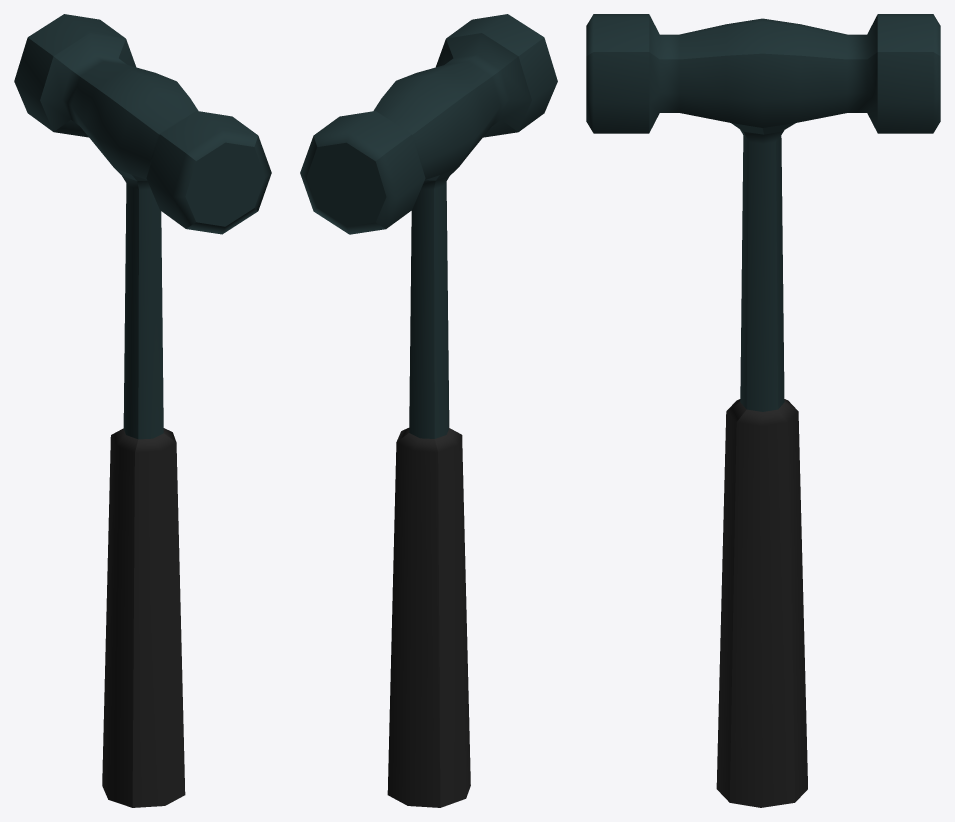
File: HammerexportB.obj
3 views of the same model, side by side, from view 1: azimuth 30°, elevation 25°; view 2: azimuth 150°, elevation 25°; view 3: azimuth 270°, elevation 25° (orthographic). The views are drawn at different scales.
Visible parts, largest first — view 1: hammer2; view 2: hammer2; view 3: hammer2.
Boxes of the visible parts, x1=… form: hammer2: x1=14, y1=14, x2=271, y2=807; hammer2: x1=300, y1=14, x2=557, y2=807; hammer2: x1=586, y1=14, x2=940, y2=807.
Bounding box in the file's own units: 2.34 × 16.17 × 6.74.
